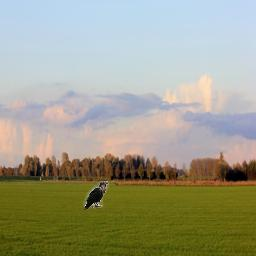Crow: (83, 181, 109, 210)
